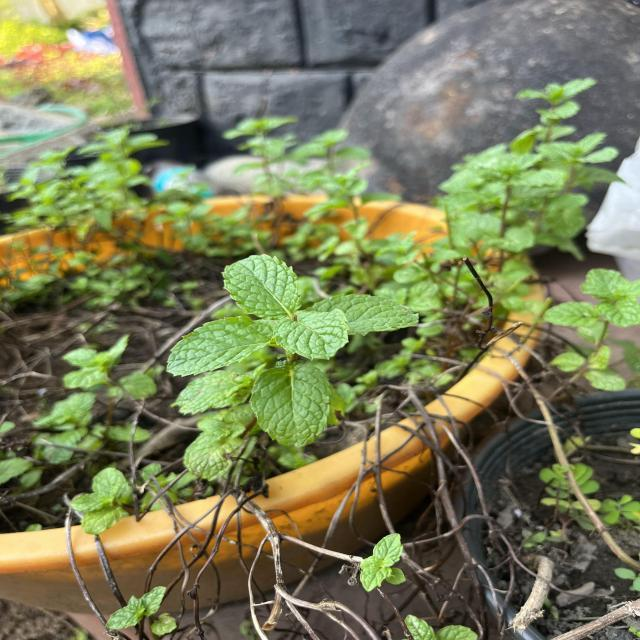Mentha spicata: (248, 364, 334, 450), (165, 315, 277, 378), (220, 253, 304, 320), (304, 294, 420, 338), (272, 308, 351, 362)
